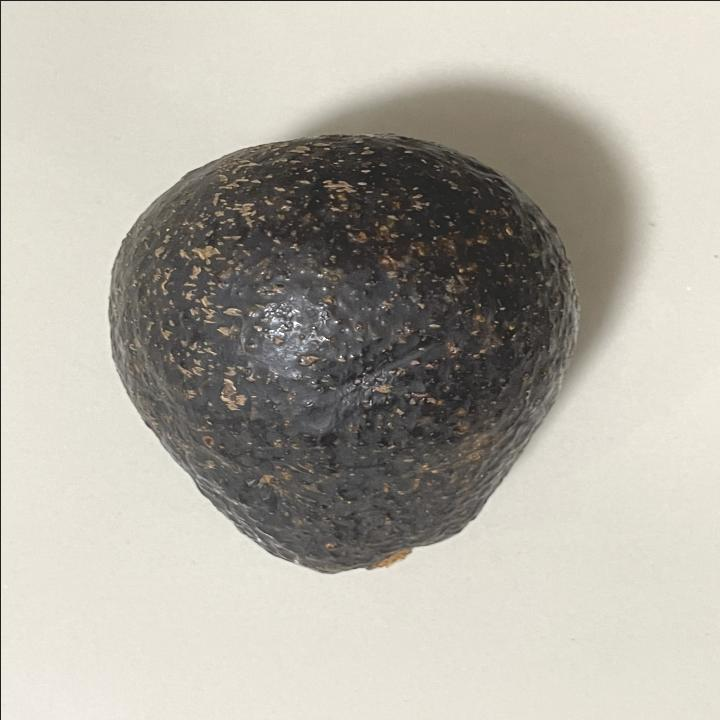Level2: (99, 126, 586, 582)
